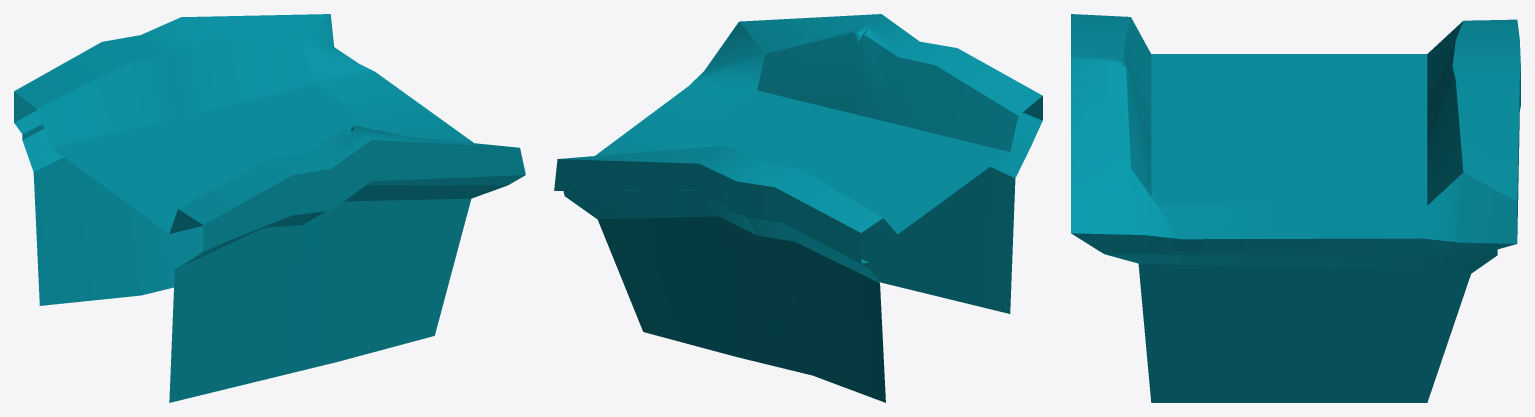
The model's file is Sml_End_Cap_L.fbx.
3 renders of one model, left to right at view 1: azimuth 30°, elevation 25°; view 2: azimuth 150°, elevation 25°; view 3: azimuth 270°, elevation 25°, orthographic. The views are drawn at different scales.
Parts seen in each view (by area): view 1: Sml_end_cap_L; view 2: Sml_end_cap_L; view 3: Sml_end_cap_L.
Part boxes in pixels (x1,y1,x2,y2): Sml_end_cap_L: (14, 14, 525, 402); Sml_end_cap_L: (554, 14, 1042, 402); Sml_end_cap_L: (1071, 14, 1520, 402).
Bounding box in the file's own units: 1.36 × 0.9917 × 1.39.
